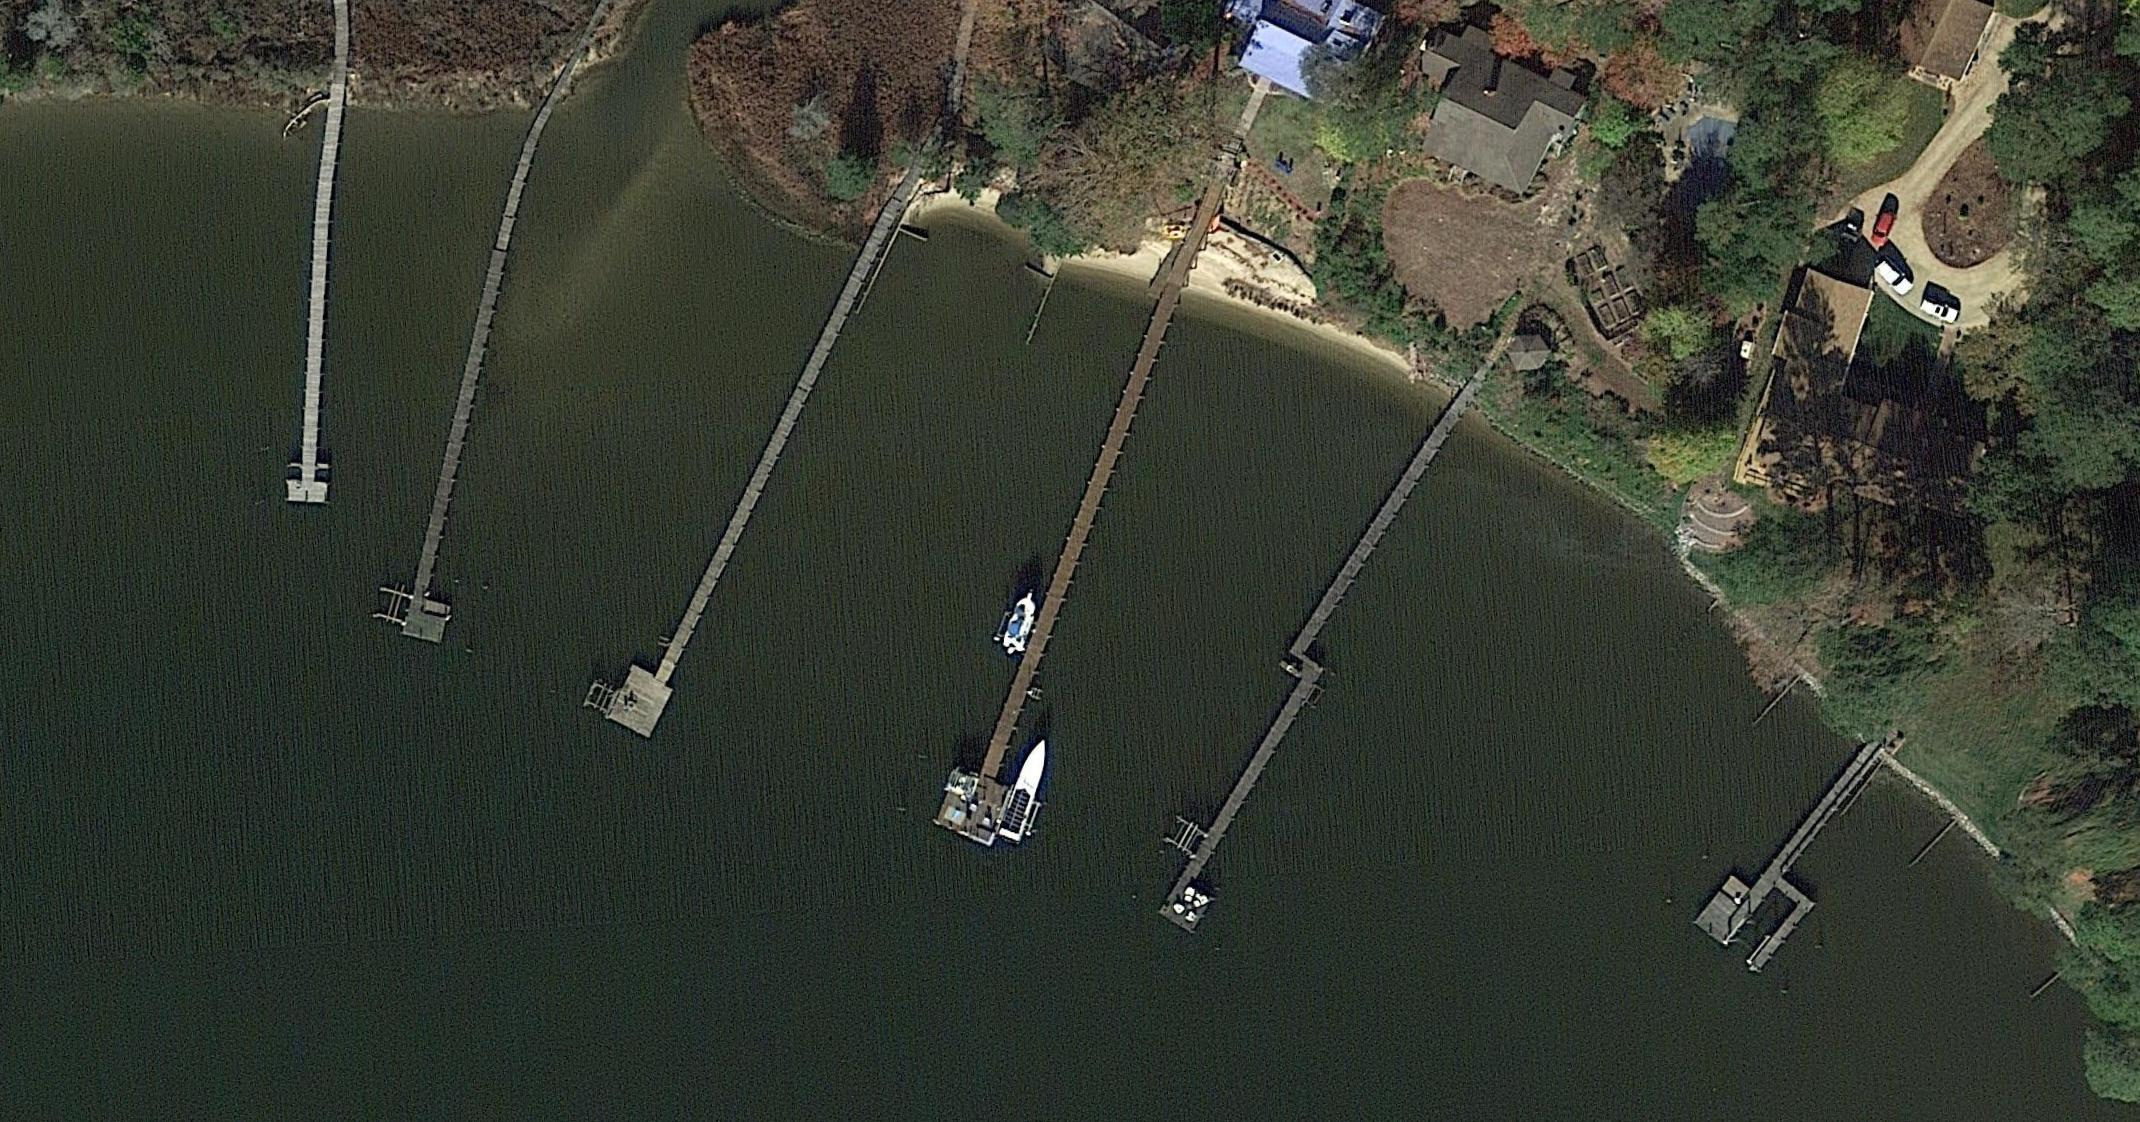harbor: (1136, 453, 1469, 935), (933, 360, 1175, 849), (609, 288, 860, 739), (401, 214, 538, 644), (1696, 748, 1896, 975), (284, 199, 346, 503)
ship: (996, 735, 1054, 846), (999, 589, 1043, 657)
